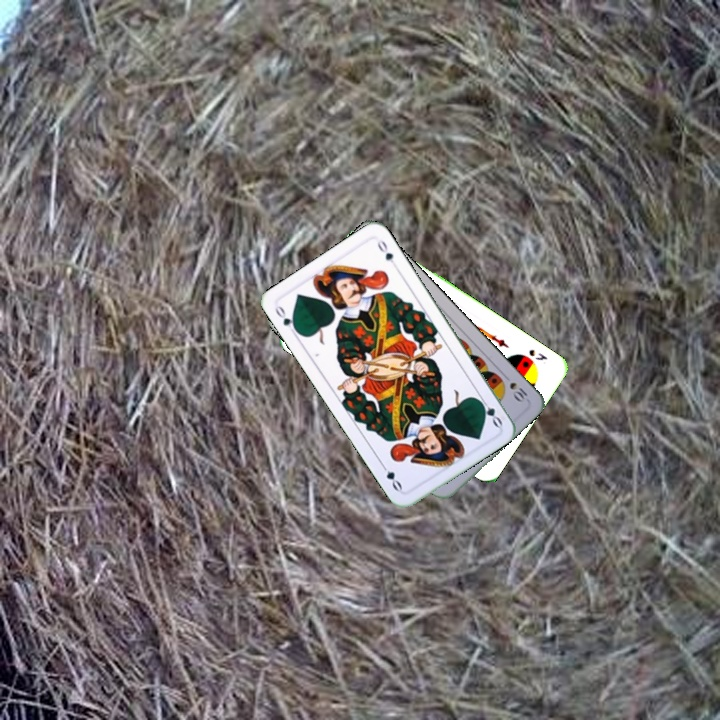GO: (473, 393, 505, 430), (271, 301, 301, 337)
S10: (499, 370, 531, 405)
SK: (525, 345, 550, 363)
